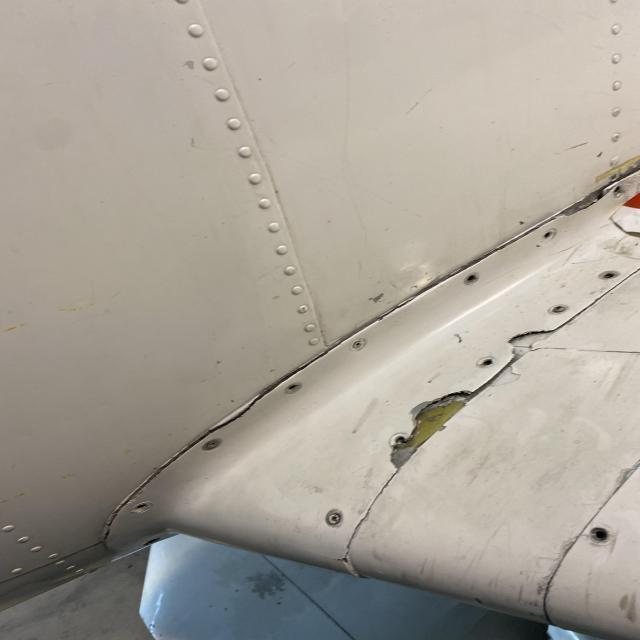Crack: (64, 428, 184, 550), (386, 388, 484, 473), (202, 390, 266, 436), (555, 180, 618, 220), (505, 328, 555, 361), (306, 550, 372, 572)
Missing_Fastener: (128, 500, 156, 518), (590, 526, 612, 545), (282, 382, 308, 396), (596, 268, 621, 281), (538, 228, 560, 242), (479, 352, 497, 369), (459, 273, 484, 285)
